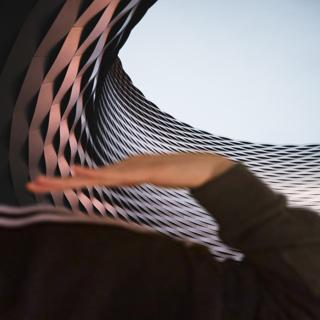Wait: (21, 142, 233, 203)
